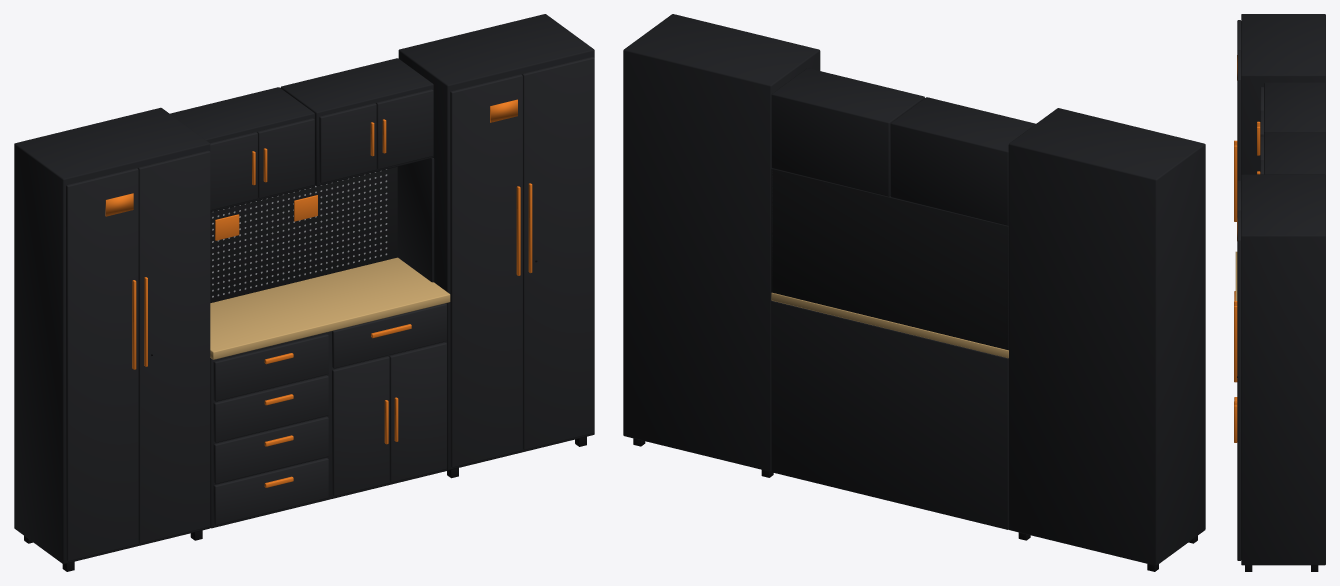
File: tool-cabinet.glb
3 renders of one model, left to right at view 1: azimuth 30°, elevation 25°; view 2: azimuth 150°, elevation 25°; view 3: azimuth 270°, elevation 25°, orthographic. The views are drawn at different scales.
Visible parts, largest first — view 1: Left body, Left door 1, Right door 1, Left door 0, Right door 0, Pegboard, Right body, Worktop, Cupboard door 0, Cupboard door 1, Wall cabinet 1, Wall cabinet 0 (+12 smaller); view 2: Left body, Right body, Base body, Pegboard, Wall cabinet 1, Wall cabinet 0, Worktop; view 3: Right body, Left body, Wall cabinet 0, Wall cabinet 1, Right door 1, Left door 1, Right handle 0.03, Left handle 0.03, Left door 0, Right door 0, Cupboard handle 0.025, Worktop.
Boxes of the visible parts, x1,y1,x2,y2 form: Left body: [14, 107, 210, 564]; Left door 1: [138, 150, 210, 543]; Right door 1: [522, 56, 594, 449]; Left door 0: [66, 168, 138, 561]; Right door 0: [450, 74, 522, 467]; Pegboard: [210, 166, 397, 302]; Right body: [398, 14, 594, 470]; Worktop: [210, 257, 450, 359]; Cupboard door 0: [332, 356, 389, 496]; Cupboard door 1: [389, 342, 446, 482]; Wall cabinet 1: [280, 58, 433, 186]; Wall cabinet 0: [170, 87, 314, 212]; Left body: [1008, 108, 1205, 565]; Right body: [623, 14, 820, 471]; Base body: [771, 301, 1008, 529]; Pegboard: [771, 168, 1008, 349]; Wall cabinet 1: [771, 68, 924, 196]; Wall cabinet 0: [890, 97, 1035, 225]; Worktop: [771, 292, 1008, 358]; Right body: [1241, 174, 1325, 565]; Left body: [1241, 14, 1325, 174]; Wall cabinet 0: [1264, 82, 1325, 132]; Wall cabinet 1: [1264, 132, 1325, 174]; Right door 1: [1237, 210, 1241, 560]; Left door 1: [1237, 50, 1241, 180]; Right handle 0.03: [1234, 306, 1237, 382]; Left handle 0.03: [1234, 145, 1237, 221]; Left door 0: [1237, 20, 1241, 50]; Right door 0: [1237, 180, 1241, 210]; Cupboard handle 0.025: [1234, 405, 1237, 442]; Worktop: [1235, 251, 1237, 300].
Bounding box in the file's own units: 2.7 × 1.92 × 0.472.
